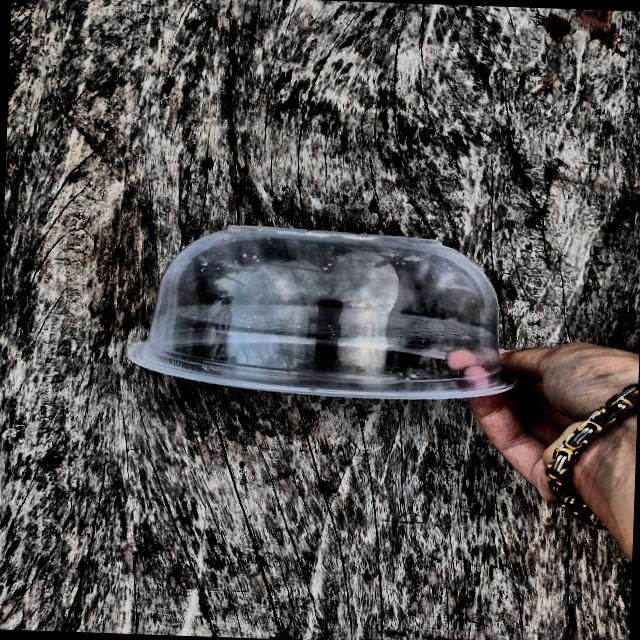plastic container: (103, 205, 530, 412)
